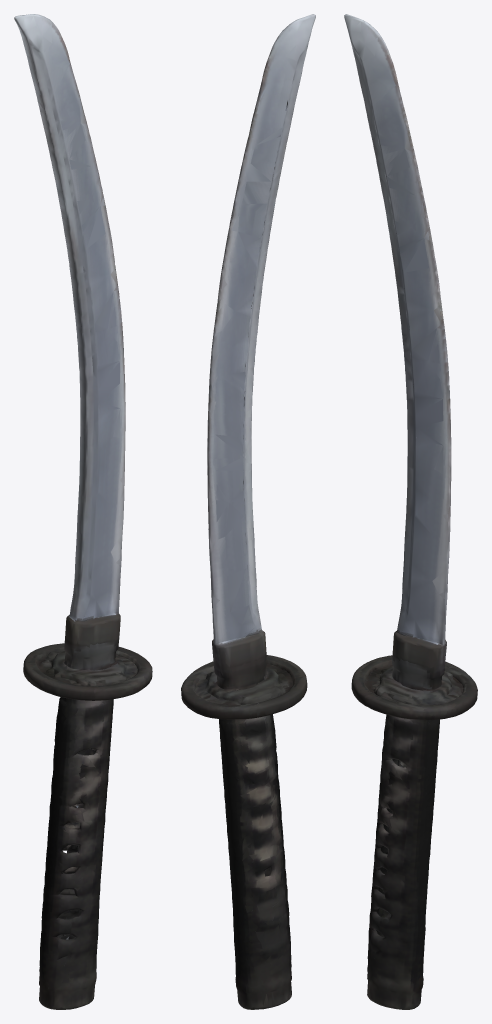
The model's file is kunoichi-katana-model.glb.
The picture shows the model from 3 angles, left to right: view 1: azimuth 30°, elevation 25°; view 2: azimuth 210°, elevation 25°; view 3: azimuth 330°, elevation 25°; orthographic projection. The views are drawn at different scales.
Parts seen in each view (by area): view 1: kunoichi-katana; view 2: kunoichi-katana; view 3: kunoichi-katana.
Boxes of the visible parts, x1,y1,x2,y2 form: kunoichi-katana: [14, 14, 152, 1009]; kunoichi-katana: [181, 14, 315, 1009]; kunoichi-katana: [344, 14, 477, 1009].
Size of the model in its own units: 0.1422 by 1.05 by 0.1175.
Materials: 2 (2 with a texture image).
